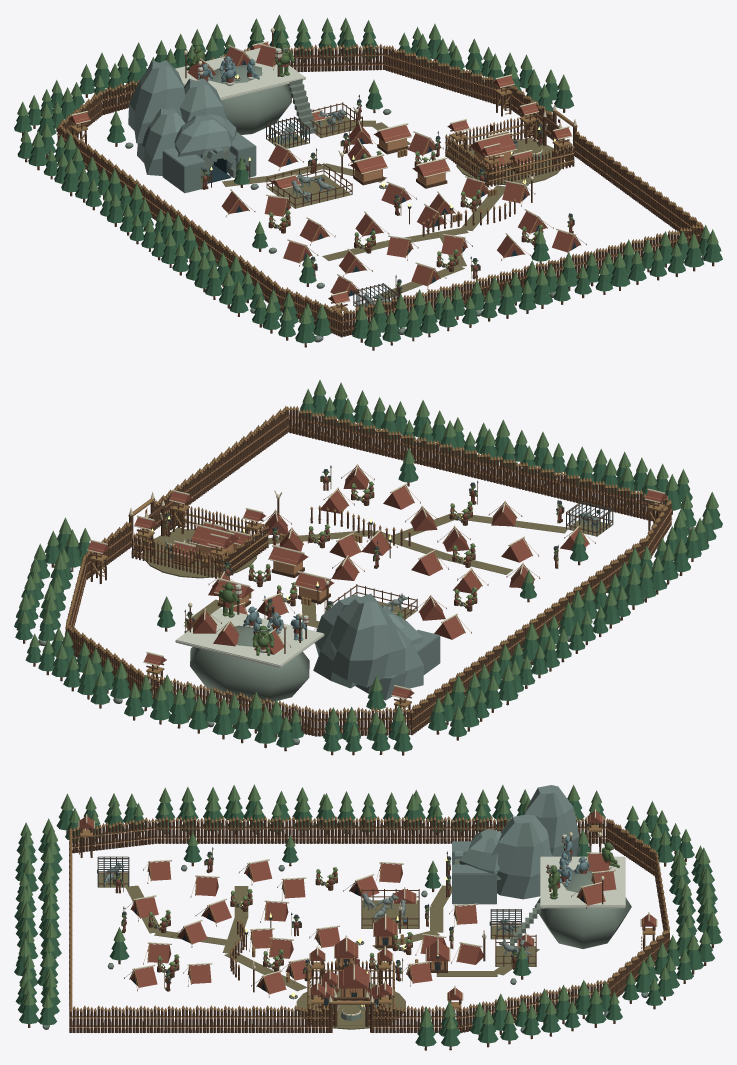
The model's file is fortified-warcamp-v5.glb.
3 views of the same model, one above another, from view 1: azimuth 30°, elevation 25°; view 2: azimuth 150°, elevation 25°; view 3: azimuth 270°, elevation 25° (orthographic). The views are drawn at different scales.
Visible parts, largest first — view 1: fortified-warcamp-v5 Forest deep needles.001, fortified-warcamp-v5 Dark timber beams.001, fortified-warcamp-v5 Forest new needles.001, fortified-warcamp-v5 Red ochre hide.001, fortified-warcamp-v5 Faceted mountain granite.001, fortified-warcamp-v5 Warm cut timber.001, fortified-warcamp-v5 Packed camp earth.001, fortified-warcamp-v5 Weathered foundation.001, fortified-warcamp-v5 Hide seams.001, fortified-warcamp-v5 Weathered tusk ivory.001, fortified-warcamp-v5 Alpine white limestone.001, fortified-warcamp-v5 Black forged iron.001 (+6 smaller); view 2: fortified-warcamp-v5 Forest deep needles.001, fortified-warcamp-v5 Dark timber beams.001, fortified-warcamp-v5 Forest new needles.001, fortified-warcamp-v5 Red ochre hide.001, fortified-warcamp-v5 Warm cut timber.001, fortified-warcamp-v5 Faceted mountain granite.001, fortified-warcamp-v5 Weathered foundation.001, fortified-warcamp-v5 Packed camp earth.001, fortified-warcamp-v5 Hide seams.001, fortified-warcamp-v5 Alpine white limestone.001, fortified-warcamp-v5 Weathered tusk ivory.001, fortified-warcamp-v5 Black forged iron.001 (+4 smaller); view 3: fortified-warcamp-v5 Dark timber beams.001, fortified-warcamp-v5 Forest deep needles.001, fortified-warcamp-v5 Forest new needles.001, fortified-warcamp-v5 Red ochre hide.001, fortified-warcamp-v5 Faceted mountain granite.001, fortified-warcamp-v5 Warm cut timber.001, fortified-warcamp-v5 Packed camp earth.001, fortified-warcamp-v5 Weathered foundation.001, fortified-warcamp-v5 Hide seams.001, fortified-warcamp-v5 Weathered tusk ivory.001, fortified-warcamp-v5 Alpine white limestone.001, fortified-warcamp-v5 Black forged iron.001 (+6 smaller).
Boxes of the visible parts, x1,y1,x2,y2 form: fortified-warcamp-v5 Forest deep needles.001: (14, 29, 722, 346); fortified-warcamp-v5 Dark timber beams.001: (22, 32, 714, 350); fortified-warcamp-v5 Forest new needles.001: (17, 14, 718, 330); fortified-warcamp-v5 Red ochre hide.001: (68, 42, 579, 303); fortified-warcamp-v5 Faceted mountain granite.001: (128, 57, 556, 340); fortified-warcamp-v5 Warm cut timber.001: (57, 43, 703, 330); fortified-warcamp-v5 Packed camp earth.001: (222, 115, 565, 316); fortified-warcamp-v5 Weathered foundation.001: (40, 47, 704, 342); fortified-warcamp-v5 Hide seams.001: (57, 47, 699, 332); fortified-warcamp-v5 Weathered tusk ivory.001: (68, 28, 576, 304); fortified-warcamp-v5 Alpine white limestone.001: (175, 48, 305, 100); fortified-warcamp-v5 Black forged iron.001: (201, 94, 574, 312); fortified-warcamp-v5 Forest deep needles.001: (14, 394, 722, 751); fortified-warcamp-v5 Dark timber beams.001: (23, 410, 708, 755); fortified-warcamp-v5 Forest new needles.001: (19, 380, 718, 736); fortified-warcamp-v5 Red ochre hide.001: (88, 467, 667, 698); fortified-warcamp-v5 Warm cut timber.001: (65, 406, 671, 729); fortified-warcamp-v5 Faceted mountain granite.001: (313, 593, 440, 700); fortified-warcamp-v5 Weathered foundation.001: (38, 422, 695, 744); fortified-warcamp-v5 Packed camp earth.001: (141, 513, 612, 627); fortified-warcamp-v5 Hide seams.001: (64, 416, 672, 731); fortified-warcamp-v5 Alpine white limestone.001: (175, 584, 324, 667); fortified-warcamp-v5 Weathered tusk ivory.001: (87, 464, 668, 699); fortified-warcamp-v5 Black forged iron.001: (145, 465, 613, 621); fortified-warcamp-v5 Dark timber beams.001: (28, 820, 713, 1050); fortified-warcamp-v5 Forest deep needles.001: (14, 800, 722, 1046); fortified-warcamp-v5 Forest new needles.001: (18, 784, 718, 1029); fortified-warcamp-v5 Red ochre hide.001: (79, 811, 656, 1002); fortified-warcamp-v5 Faceted mountain granite.001: (42, 785, 644, 1032); fortified-warcamp-v5 Warm cut timber.001: (69, 816, 669, 1026); fortified-warcamp-v5 Packed camp earth.001: (98, 873, 539, 1029); fortified-warcamp-v5 Weathered foundation.001: (42, 830, 648, 1033); fortified-warcamp-v5 Hide seams.001: (69, 814, 669, 1027); fortified-warcamp-v5 Weathered tusk ivory.001: (78, 809, 657, 1015); fortified-warcamp-v5 Alpine white limestone.001: (540, 834, 625, 908); fortified-warcamp-v5 Black forged iron.001: (97, 847, 521, 1015).
Bounding box in the file's own units: 45.68 × 9.55 × 58.12.
